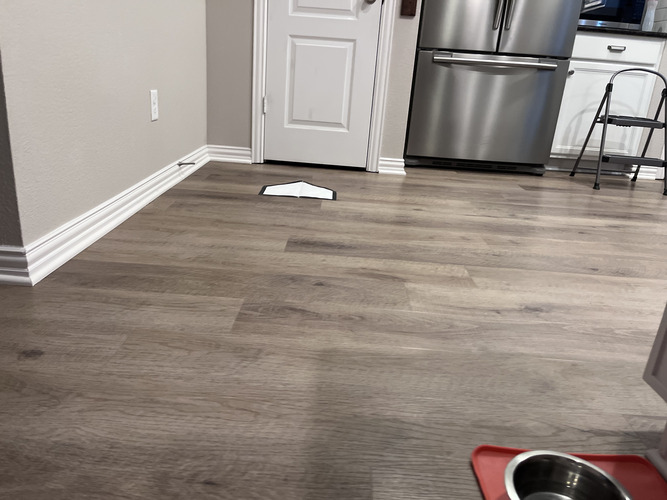homeplate: (257, 181, 337, 201)
